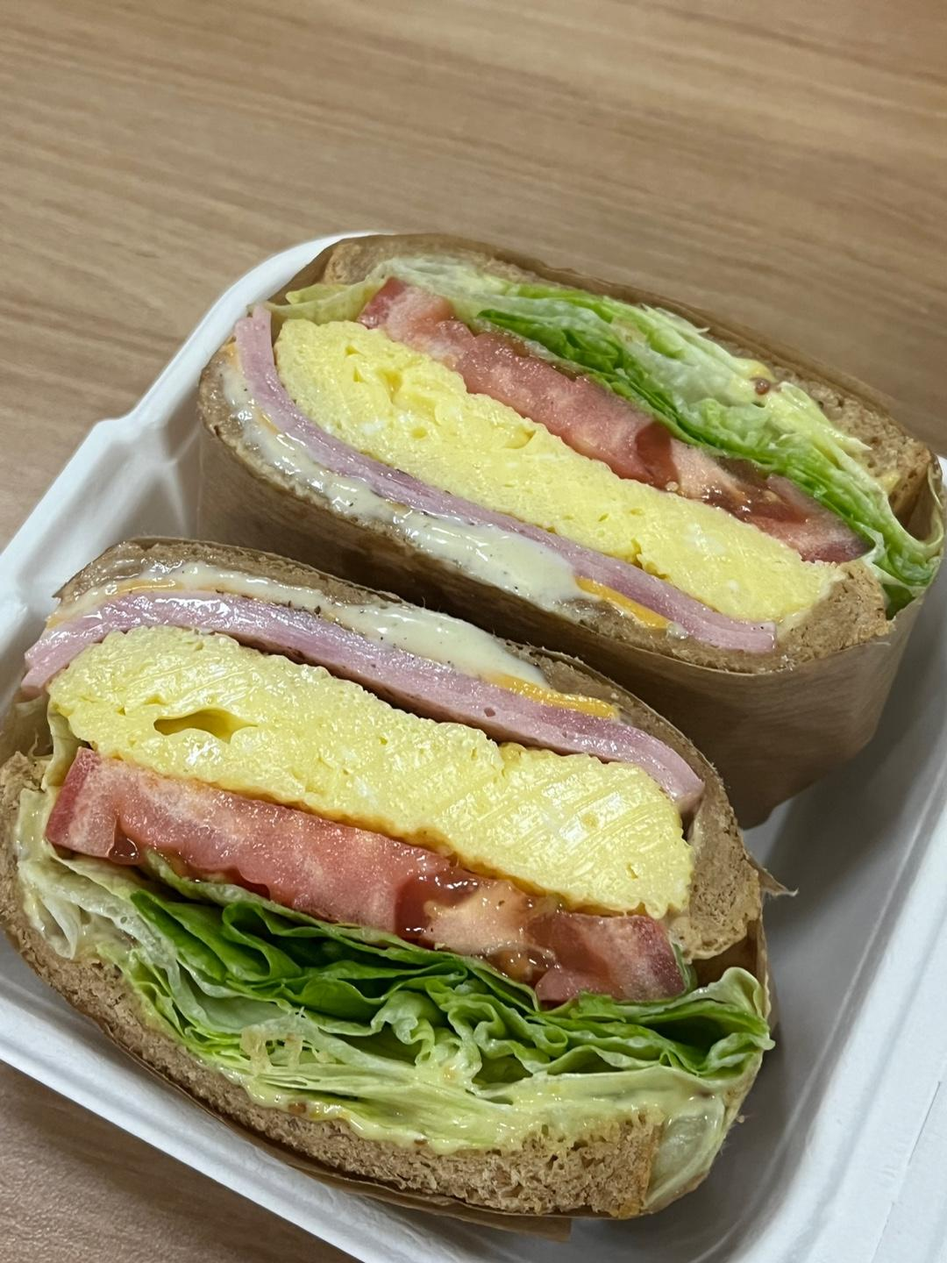Lunch Box: (0, 234, 946, 1262)
